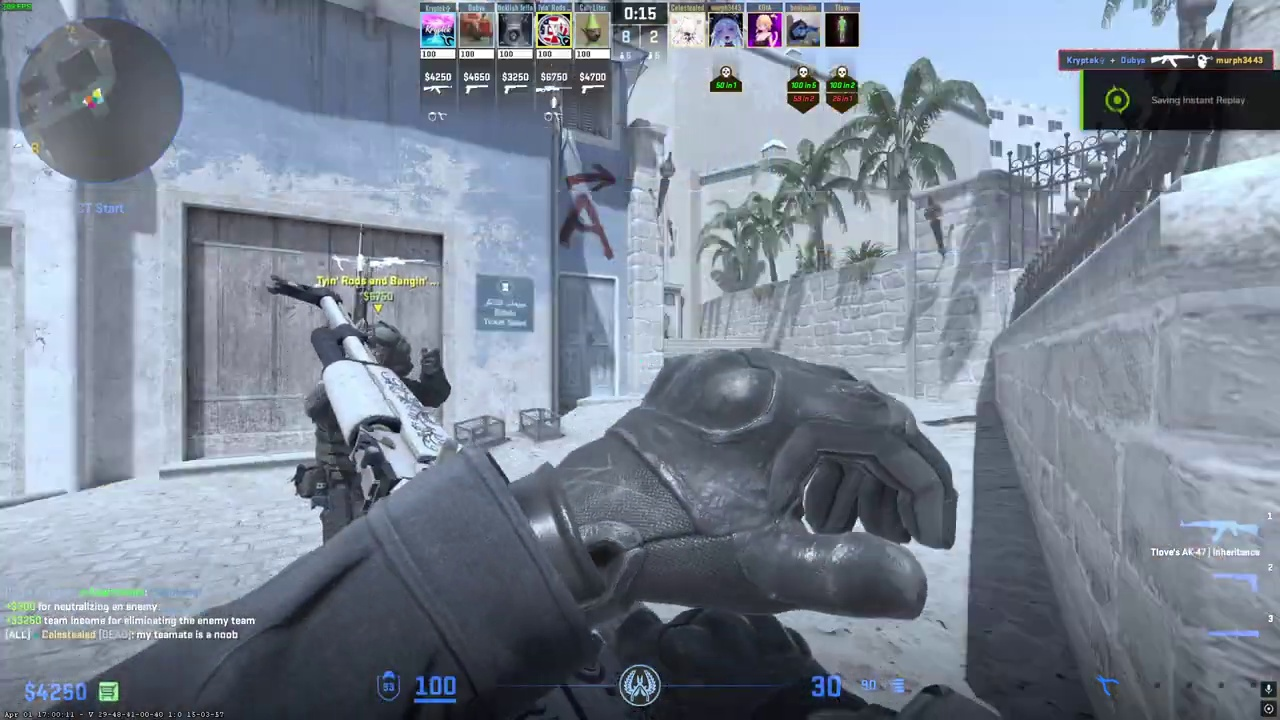CT: (304, 320, 432, 534)
